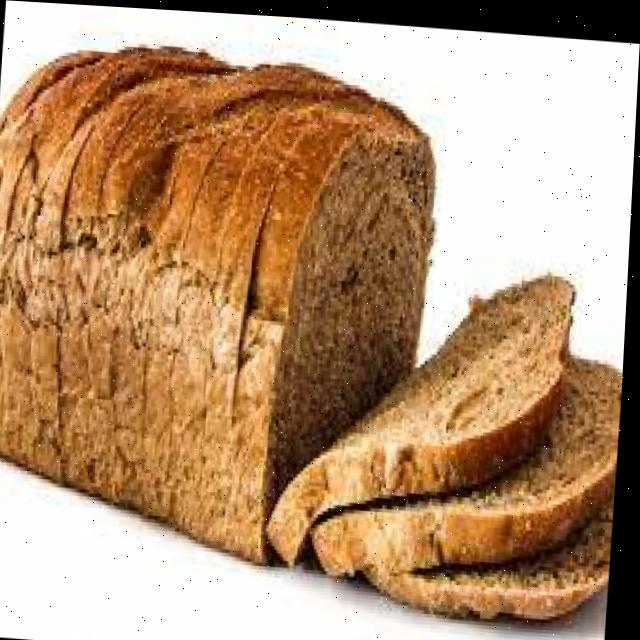Bread: (272, 267, 576, 559), (244, 89, 435, 497), (317, 351, 626, 570), (374, 487, 619, 611)
